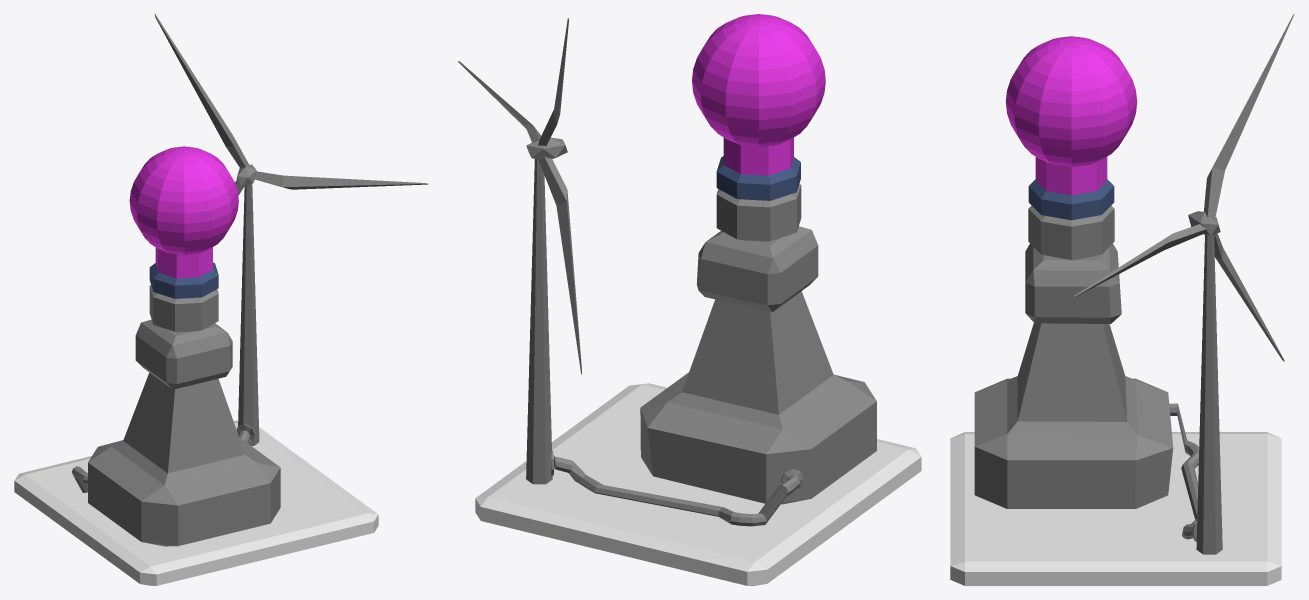
File: wind.fbx
3 views of the same model, side by side, from view 1: azimuth 30°, elevation 25°; view 2: azimuth 150°, elevation 25°; view 3: azimuth 270°, elevation 25° (orthographic). The views are drawn at different scales.
Parts seen in each view (by area): view 1: En_Wind, Base; view 2: En_Wind, Base; view 3: En_Wind, Base.
Boxes of the visible parts, <box> form: En_Wind: <box>72,14,428,546</box>; Base: <box>14,420,378,585</box>; En_Wind: <box>458,14,876,526</box>; Base: <box>475,383,921,585</box>; En_Wind: <box>974,14,1294,554</box>; Base: <box>950,432,1281,585</box>.
Bounding box in the file's own units: 280 × 351 × 208.
